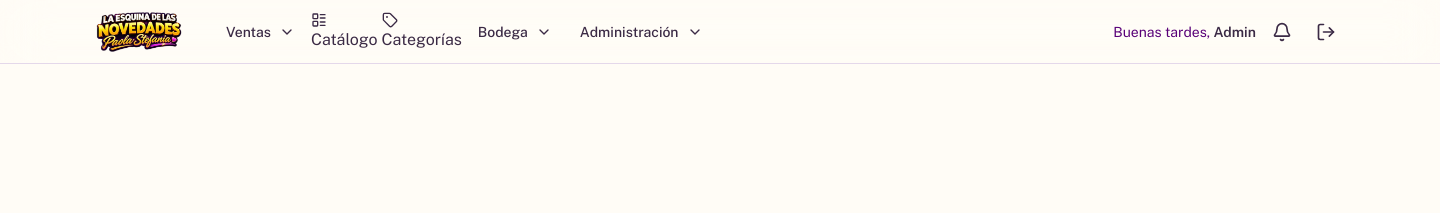
it: TopNav — solo MVP (dropdowns abiertos) › dropdown Administración › SI contiene Usuarios y Config de Caja
Step 1. Hover over the button "Administración" → x=641, y=32, box [568, 14, 714, 50]
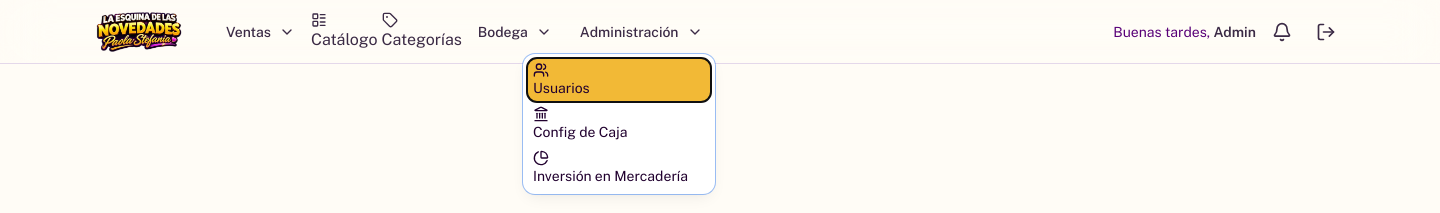
Now the link "Usuarios" is shown, box [533, 62, 590, 98]
Now the link "Config de Caja" is shown, box [533, 106, 628, 142]
